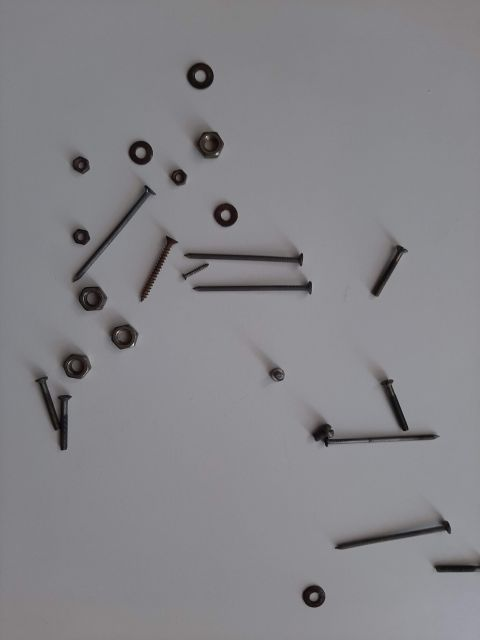gwozdz: (65, 175, 155, 275), (305, 505, 455, 555), (175, 265, 325, 305), (175, 235, 305, 275), (305, 415, 445, 445)
nakretka: (35, 325, 95, 385), (95, 305, 155, 355), (185, 105, 235, 155), (65, 275, 105, 305)
podkladka: (185, 35, 235, 95), (95, 125, 155, 175), (295, 565, 335, 625), (205, 185, 245, 235)
sruba: (15, 355, 65, 445), (355, 235, 415, 305), (355, 355, 415, 425), (35, 385, 75, 445)
